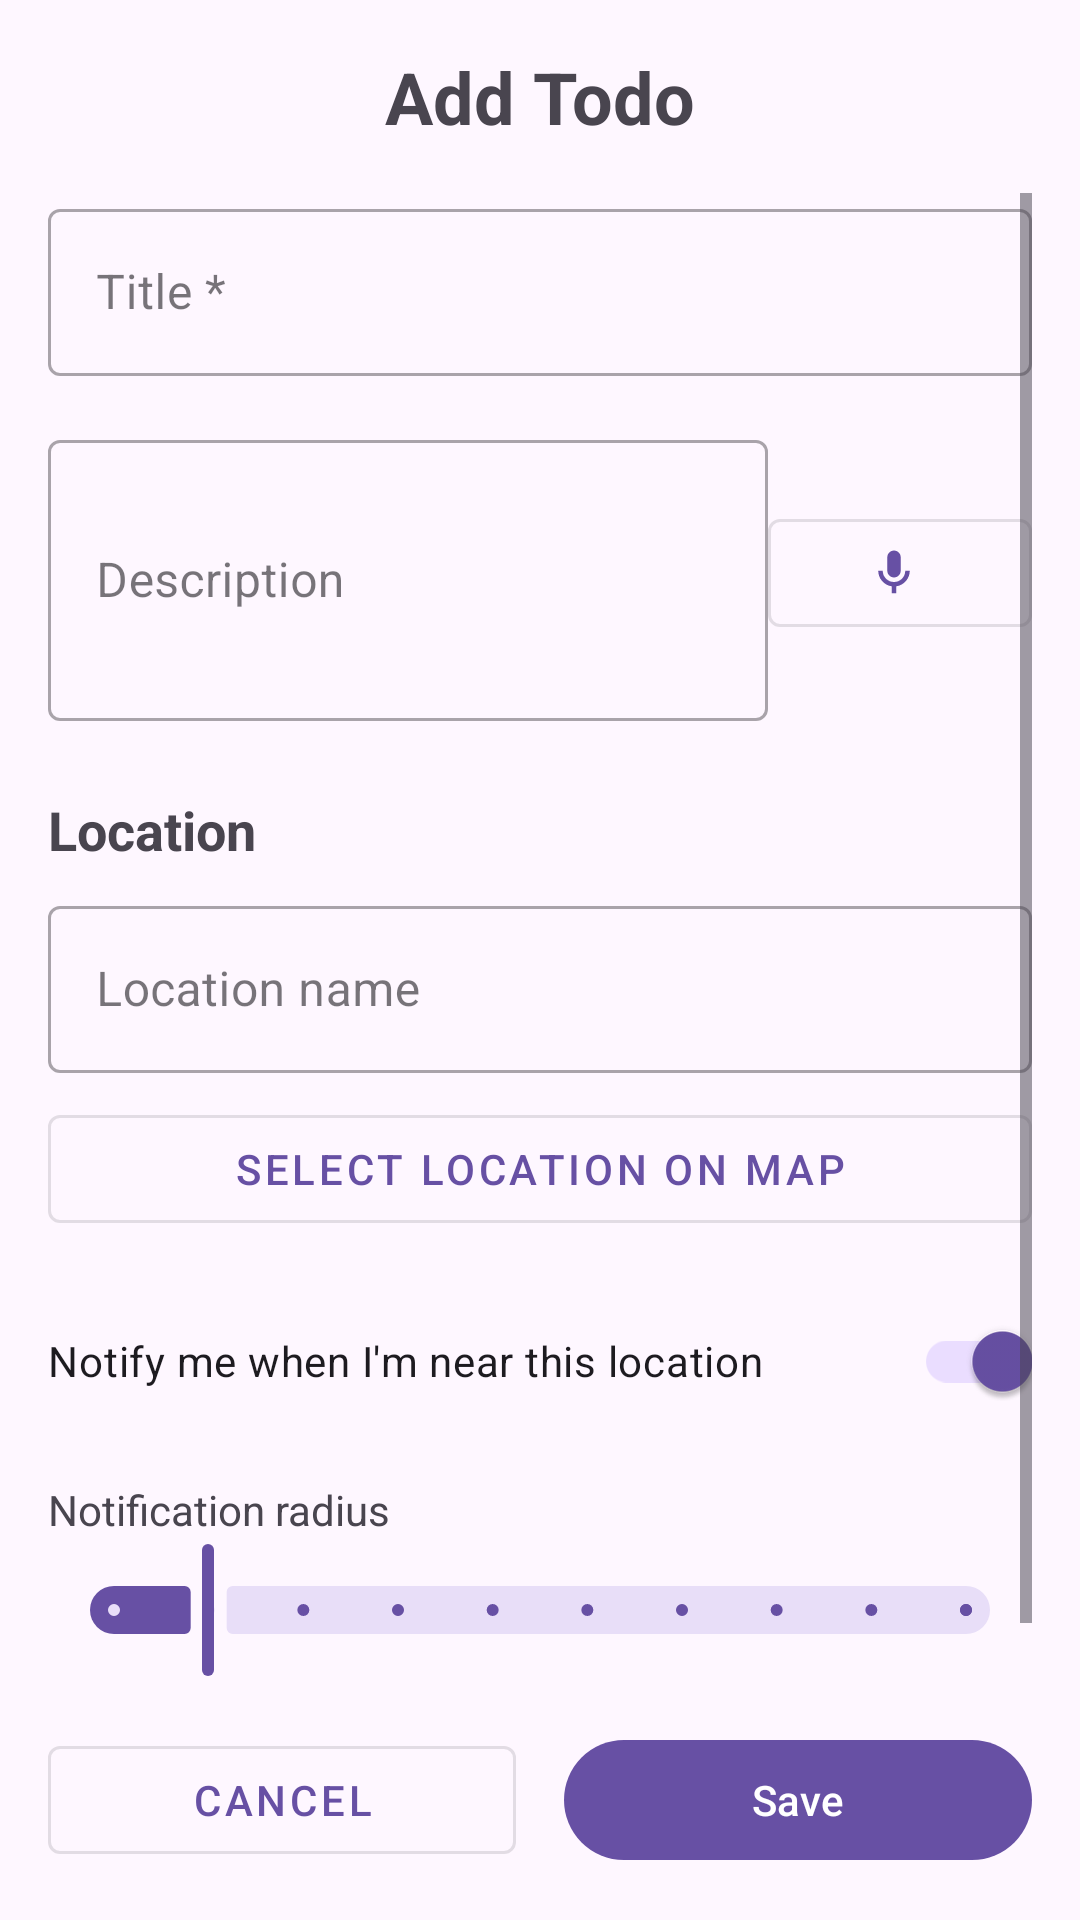

Icon click points for this 1080 x 1920 phone screenshot, format (x,y):
Dictate: (900,573)
